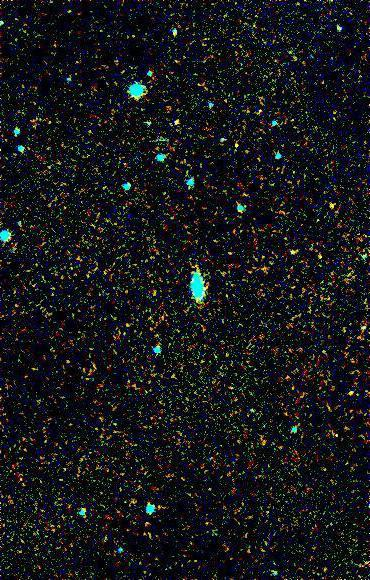star: (316, 190, 346, 220)
